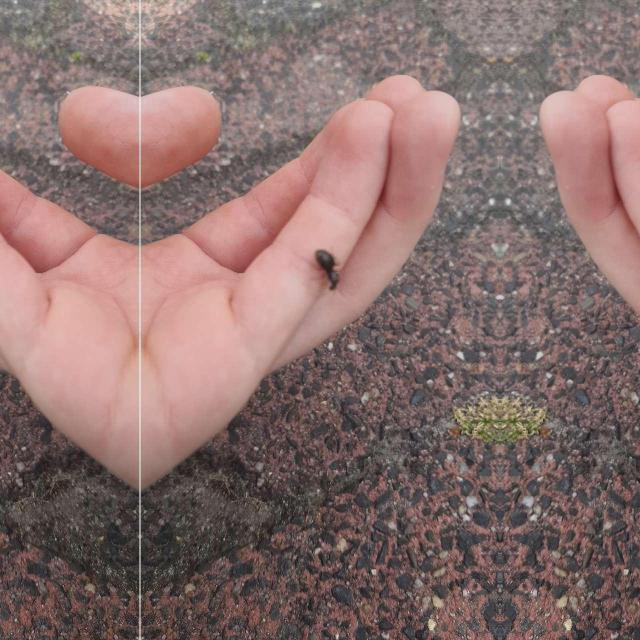Lasius: (304, 234, 348, 298)
